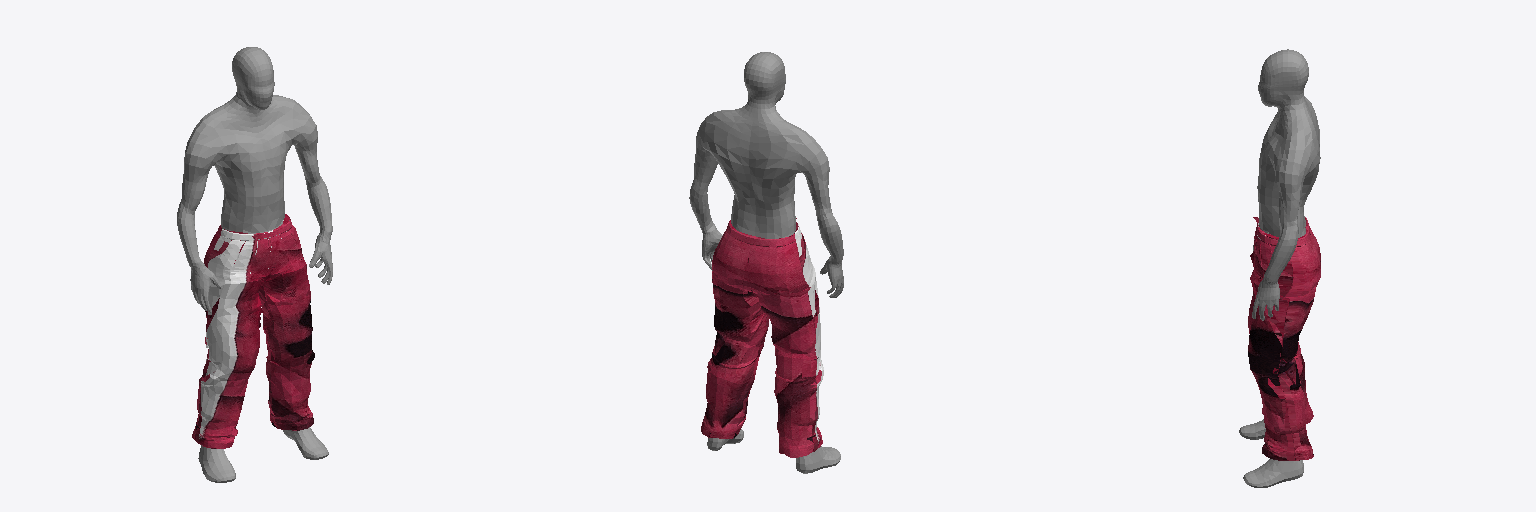
The picture shows the model from 3 angles: view 1: azimuth 30°, elevation 25°; view 2: azimuth 150°, elevation 25°; view 3: azimuth 270°, elevation 25°; orthographic projection.
Parts seen in each view (by area): view 1: Human_BaseMesh_Mesh, Object60.004; view 2: Object60.004, Human_BaseMesh_Mesh; view 3: Human_BaseMesh_Mesh, Object60.004.
Part boxes in pixels (left/top/right/bottom): Human_BaseMesh_Mesh: left=177, top=47, right=332, bottom=482; Object60.004: left=192, top=214, right=314, bottom=448; Object60.004: left=701, top=218, right=823, bottom=457; Human_BaseMesh_Mesh: left=689, top=52, right=843, bottom=473; Human_BaseMesh_Mesh: left=1239, top=49, right=1320, bottom=487; Object60.004: left=1248, top=217, right=1320, bottom=460.
Size of the model in its own units: 6.14 by 16.22 by 2.95.
3 materials, 1 textured.